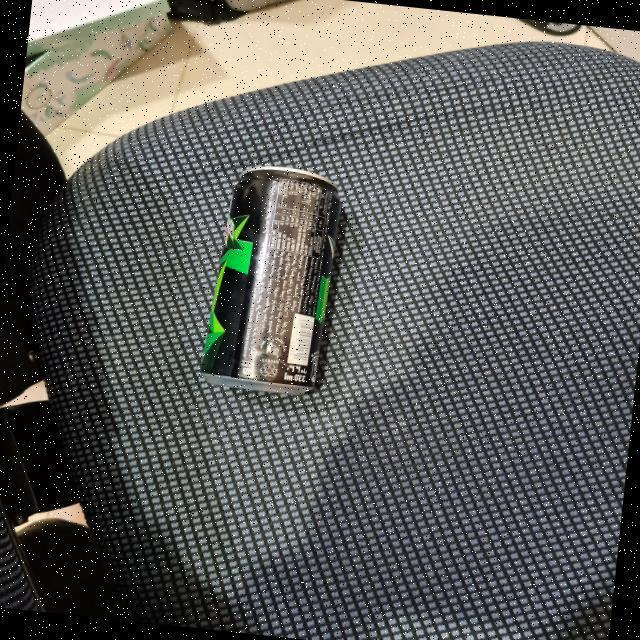can: (194, 157, 348, 401)
